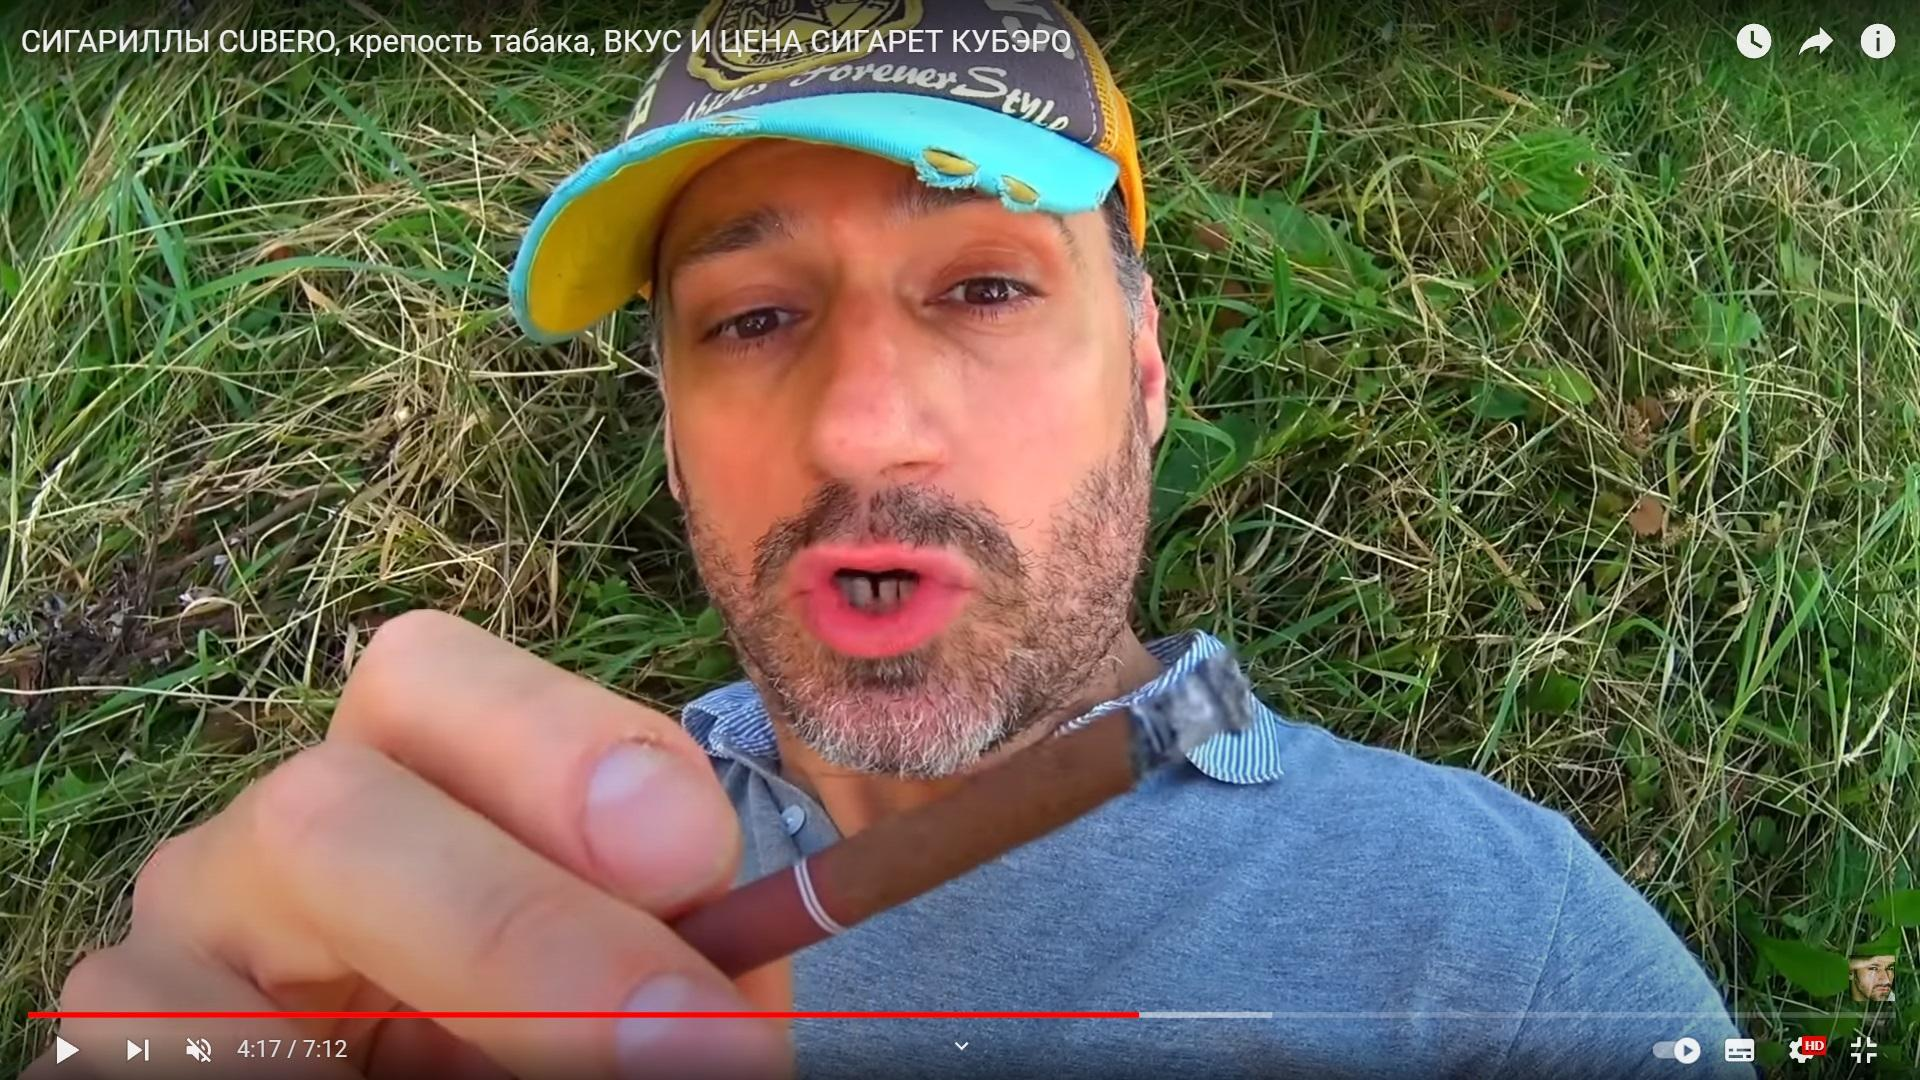cigarette: (666, 651, 1255, 993)
